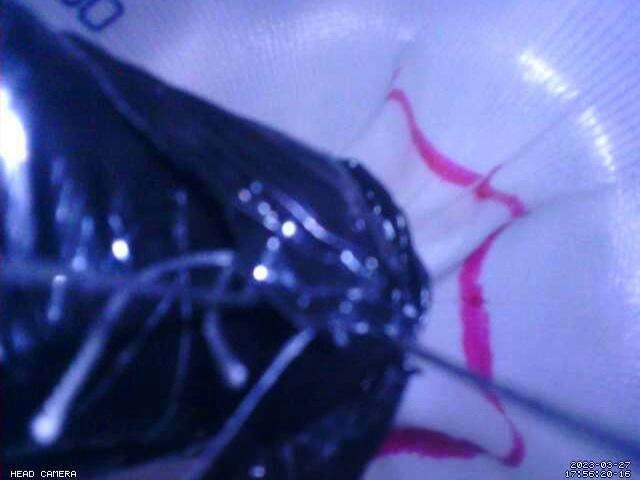red-circle: (372, 88, 528, 468)
